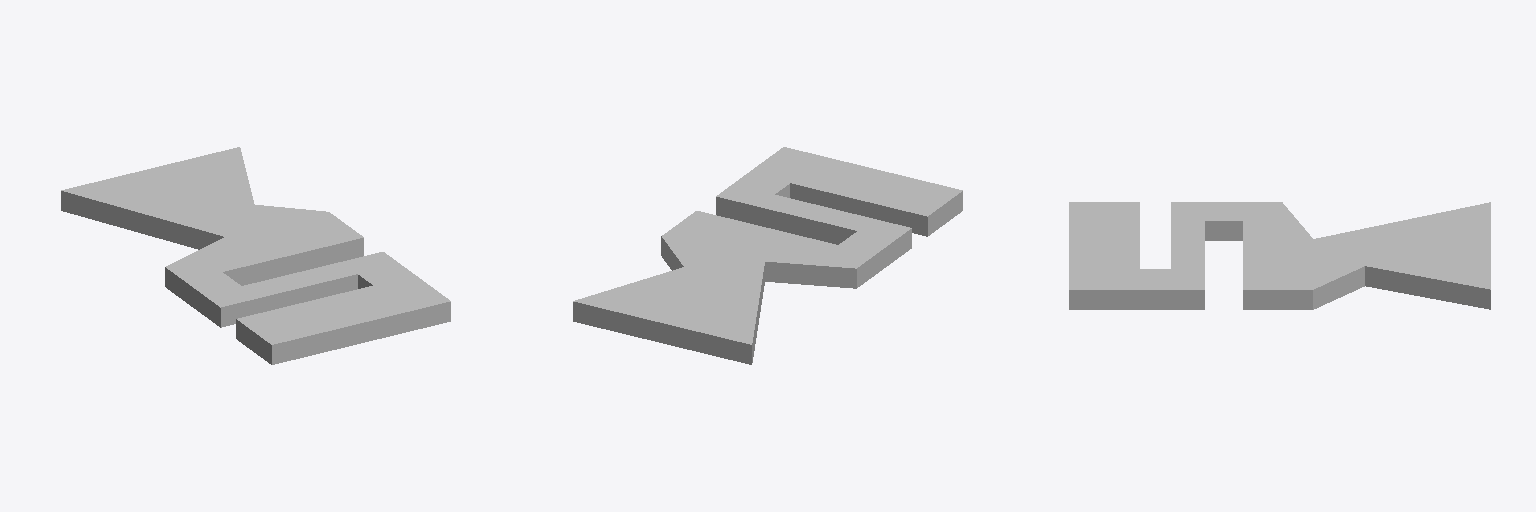
Rendered from Pitch3.obj.
The picture shows the model from 3 angles: view 1: azimuth 30°, elevation 25°; view 2: azimuth 150°, elevation 25°; view 3: azimuth 270°, elevation 25°; orthographic projection.
Visible parts, largest first — view 1: DefaultPitch1:Mesh group; view 2: DefaultPitch1:Mesh group; view 3: DefaultPitch1:Mesh group.
Boxes of the visible parts, x1=… form: DefaultPitch1:Mesh group: x1=61, y1=147, x2=450, y2=364; DefaultPitch1:Mesh group: x1=573, y1=147, x2=962, y2=364; DefaultPitch1:Mesh group: x1=1069, y1=202, x2=1490, y2=309.
Bounding box in the file's own units: 3.4 × 0.3645 × 6.91.